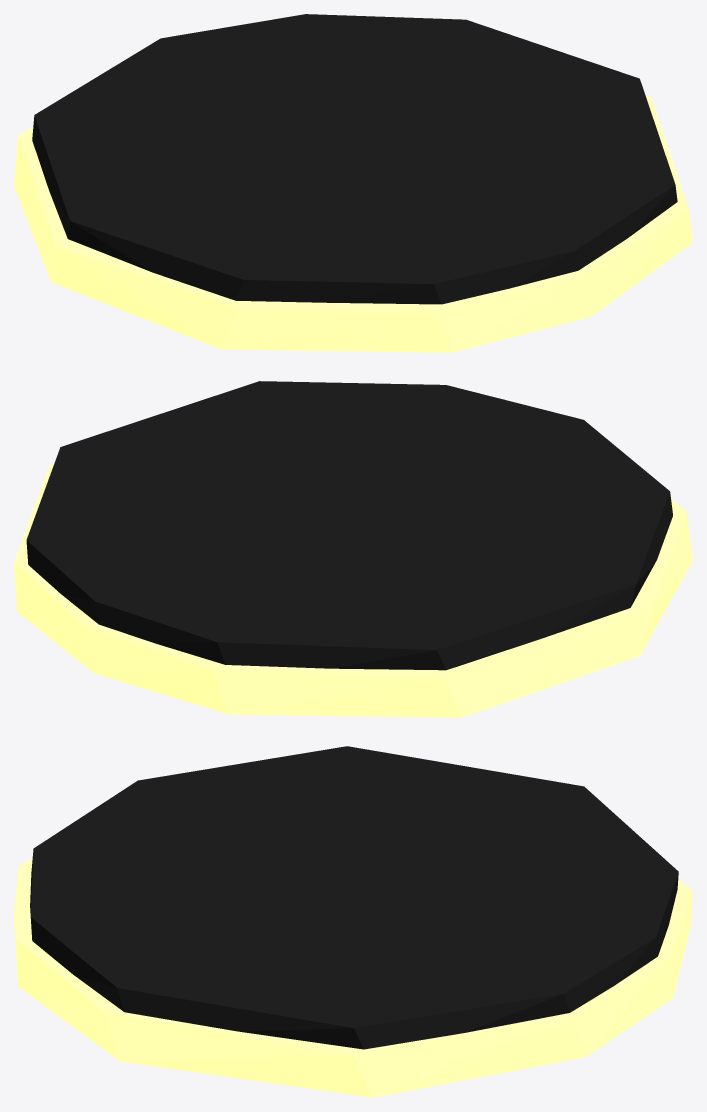
File: djdisc1.glb
3 renders of one model, top to bottom at view 1: azimuth 30°, elevation 25°; view 2: azimuth 150°, elevation 25°; view 3: azimuth 270°, elevation 25°, orthographic.
Parts seen in each view (by area): view 1: disc2 moving; view 2: disc2 moving; view 3: disc2 moving.
Boxes of the visible parts, bbox=[...] form: disc2 moving: bbox=[14, 14, 692, 352]; disc2 moving: bbox=[14, 381, 692, 717]; disc2 moving: bbox=[14, 746, 692, 1097].
Bounding box in the file's own units: 0.4033 × 0.0411 × 0.3925.
